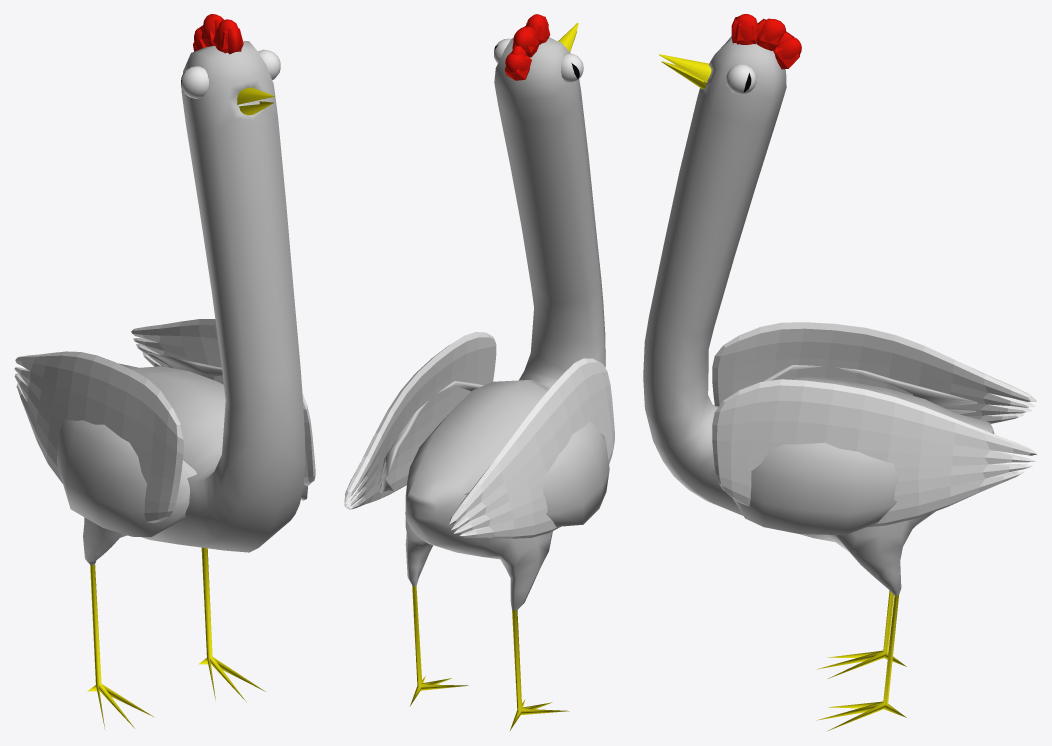
The model's file is 동물농장 닭 .fbx.
The picture shows the model from 3 angles, left to right: view 1: azimuth 30°, elevation 25°; view 2: azimuth 150°, elevation 25°; view 3: azimuth 270°, elevation 25°; orthographic projection. The views are drawn at different scales.
Parts seen in each view (by area): view 1: Cube, Plane, Sphere.001, Sphere, Cube.002; view 2: Cube, Plane, Sphere, Sphere.001, Plane.001; view 3: Cube, Plane, Sphere, Cube.002, Sphere.001, Plane.001.
Part boxes in pixels (<box>): Cube: <box>57,41,307,730</box>; Plane: <box>14,319,315,522</box>; Sphere.001: <box>181,49,280,98</box>; Sphere: <box>194,14,237,51</box>; Cube.002: <box>237,87,274,115</box>; Cube: <box>377,37,609,731</box>; Plane: <box>344,332,614,538</box>; Sphere: <box>505,14,547,73</box>; Sphere.001: <box>494,38,583,82</box>; Plane.001: <box>504,20,550,80</box>; Cube: <box>643,36,994,731</box>; Plane: <box>712,322,1037,527</box>; Sphere: <box>735,14,801,65</box>; Cube.002: <box>659,54,711,88</box>; Sphere.001: <box>726,64,756,94</box>; Plane.001: <box>735,23,799,69</box>.
Size of the model in its own units: 379 by 1222 by 642.
